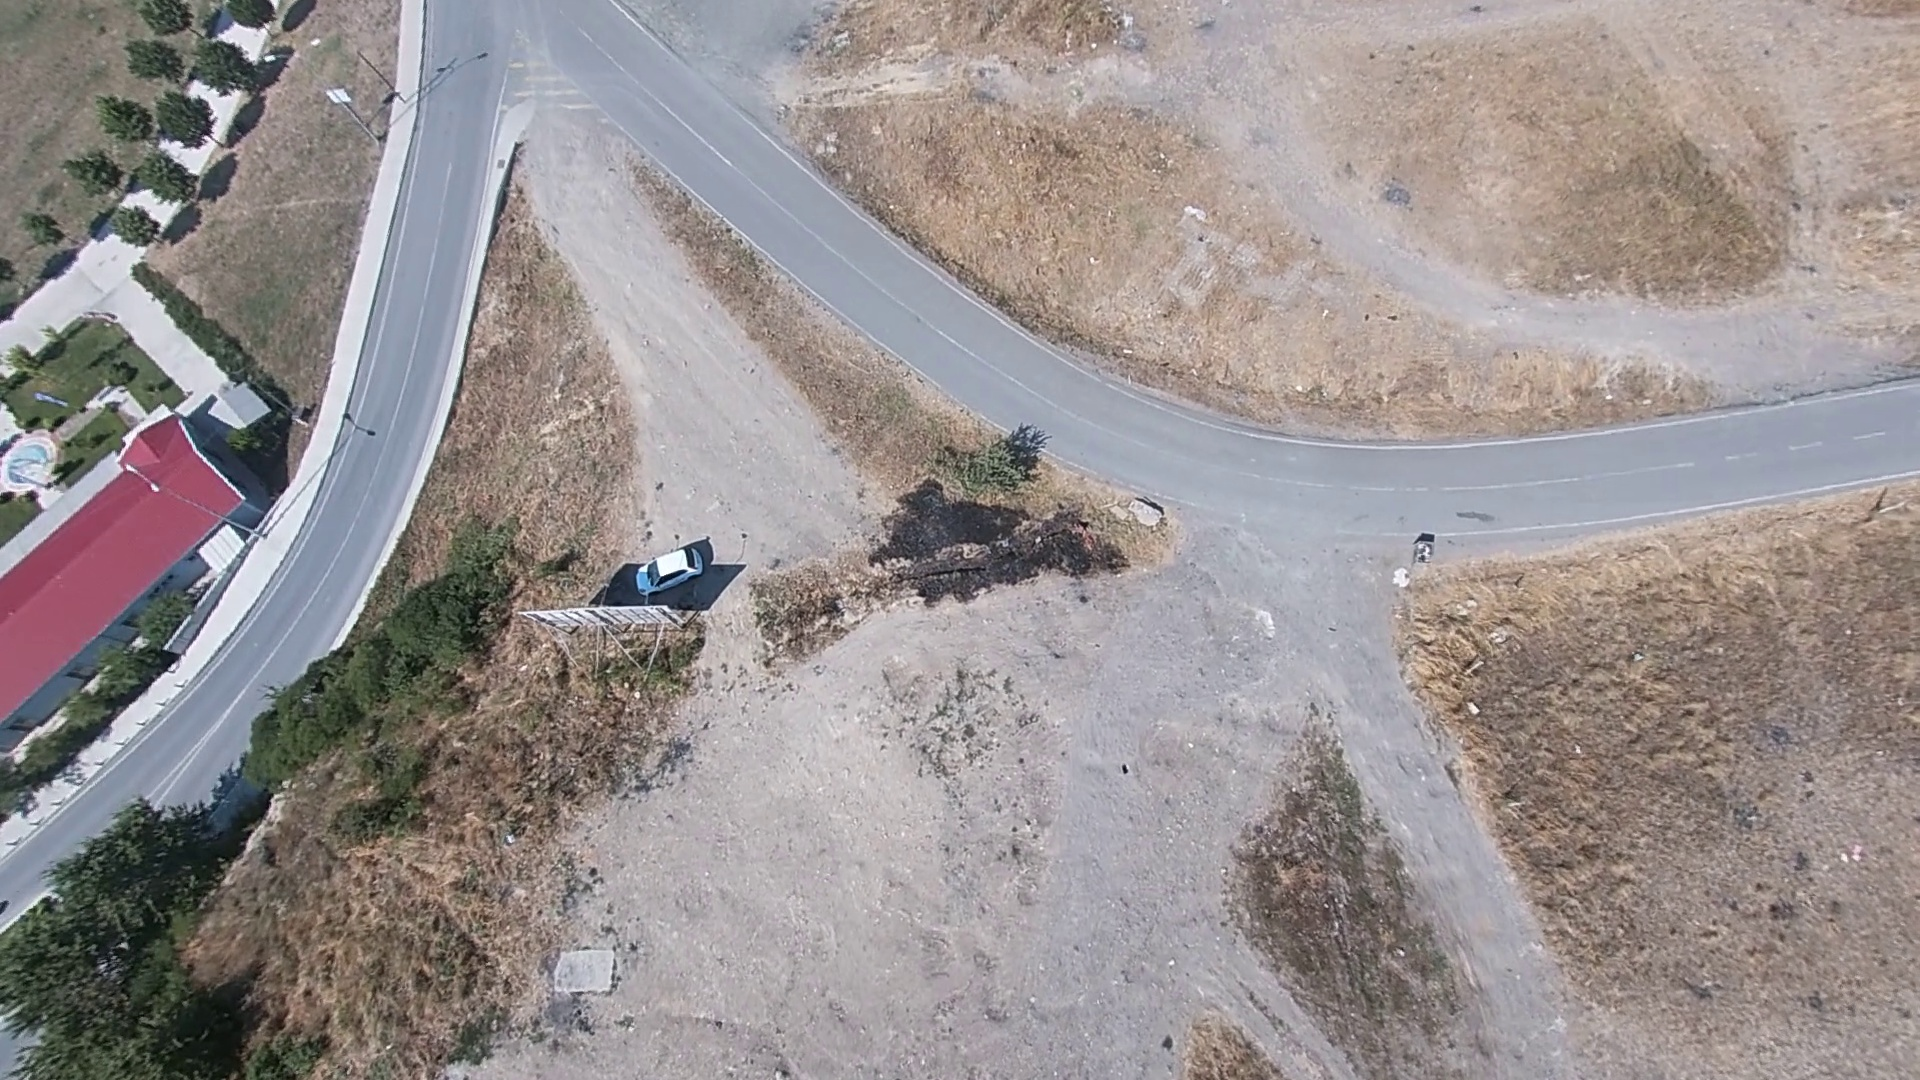araba: (630, 535, 705, 596)
